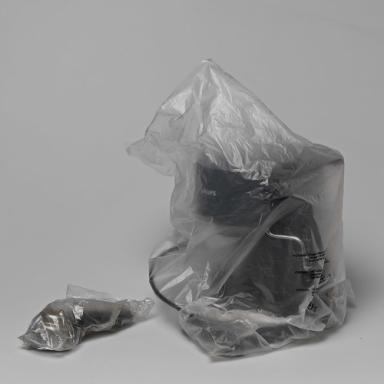plasticbag: (124, 55, 356, 361), (14, 282, 156, 354)
